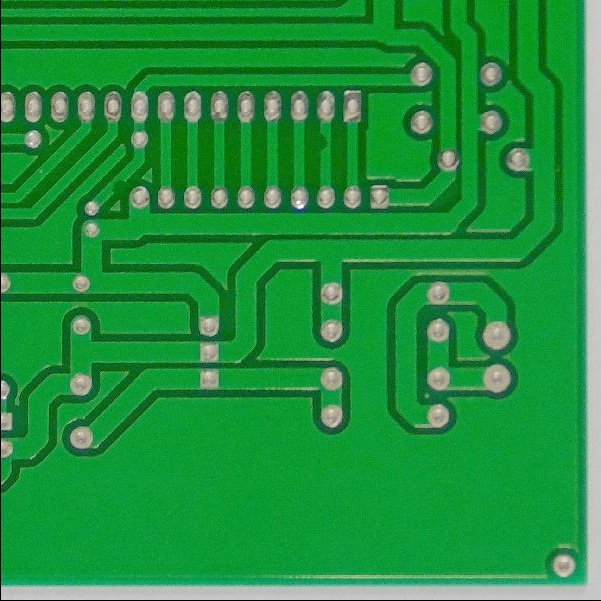mouse_bite: (105, 175, 129, 198), (312, 129, 330, 158)
